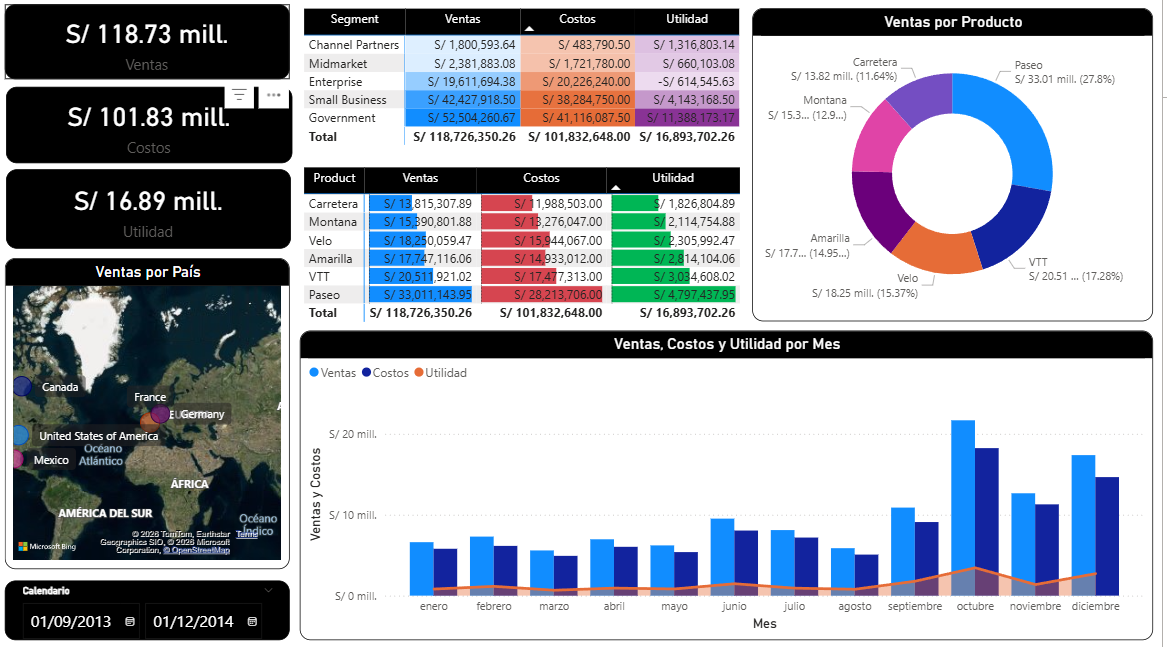

What the dashboard file says about the page in this screenshot:
{"tool":"powerbi","page":{"name":"Página 1","canvas":[1280,720],"ordinal":0},"visuals":[{"type":"donutChart","title":"Ventas por Producto","fields":{"Y":["Sum(financials. Sales)"],"Category":["financials.Product"]},"box":[830,16,440,344],"z":0},{"type":"pivotTable","fields":{"Values":["Sum(financials. Sales)","Sum(financials.COGS)","Sum(financials.Profit)"],"Rows":["financials.Segment"]},"box":[333,13,490,161],"z":1000},{"type":"pivotTable","fields":{"Values":["Sum(financials. Sales)","Sum(financials.COGS)","Sum(financials.Profit)"],"Rows":["financials.Product"]},"box":[333,187,490,183],"z":2000},{"type":"lineClusteredColumnComboChart","fields":{"Y":["Sum(financials. Sales)","Sum(financials.COGS)"],"Category":["financials.Date.Variación.Jerarquía de fechas.Mes"],"Y2":["Sum(financials.Profit)"]},"box":[333,370,937,340],"z":3000},{"type":"card","fields":{"Values":["Sum(financials.COGS)"]},"box":[11,103,314,84],"z":4000},{"type":"map","title":"Ventas por País","fields":{"Category":["financials.Country"],"Series":["financials.Country"],"Size":["Sum(financials. Sales)"]},"box":[10,291.4,312.9,341.4],"z":5000},{"type":"card","fields":{"Values":["Sum(financials.Profit)"]},"box":[11.2,193.8,312.5,87.5],"z":6000},{"type":"card","fields":{"Values":["Sum(financials. Sales)"]},"box":[10,12.5,312.5,82.5],"z":7000},{"type":"slicer","fields":{"Values":["financials.Date"]},"box":[10,644.3,312.9,65.7],"z":8000}]}

Visuals, with their boxes in screenshot pixels (x1, y1, x2, y2), scaled from the page's 1280x720 canvas onto the 1167x647 screenshot:
"Ventas por Producto" donutChart: left=757, top=14, right=1158, bottom=324
pivotTable - Sum(financials. Sales) x Sum(financials.COGS): left=304, top=12, right=750, bottom=156
pivotTable - Sum(financials. Sales) x Sum(financials.COGS): left=304, top=168, right=750, bottom=332
lineClusteredColumnComboChart - Sum(financials. Sales) x Sum(financials.COGS): left=304, top=332, right=1158, bottom=638
card - Sum(financials.COGS): left=10, top=93, right=296, bottom=168
"Ventas por País" map: left=9, top=262, right=294, bottom=569
card - Sum(financials.Profit): left=10, top=174, right=295, bottom=253
card - Sum(financials. Sales): left=9, top=11, right=294, bottom=85
slicer - financials.Date: left=9, top=579, right=294, bottom=638
